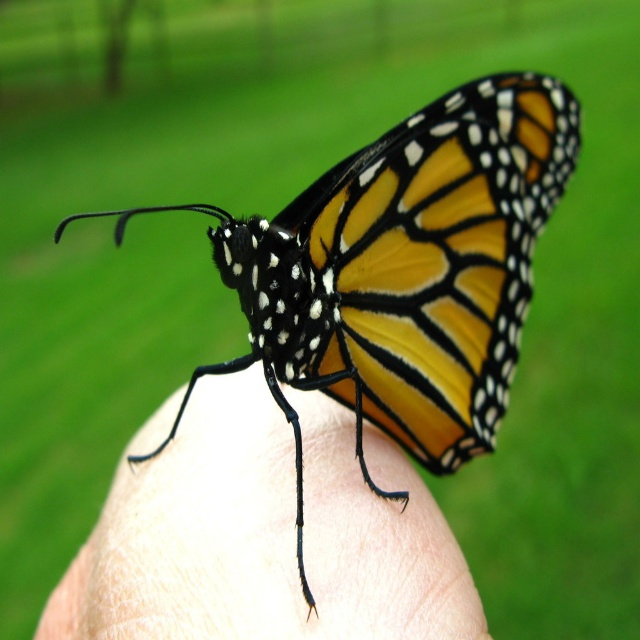Butterfly: (53, 64, 581, 623)
